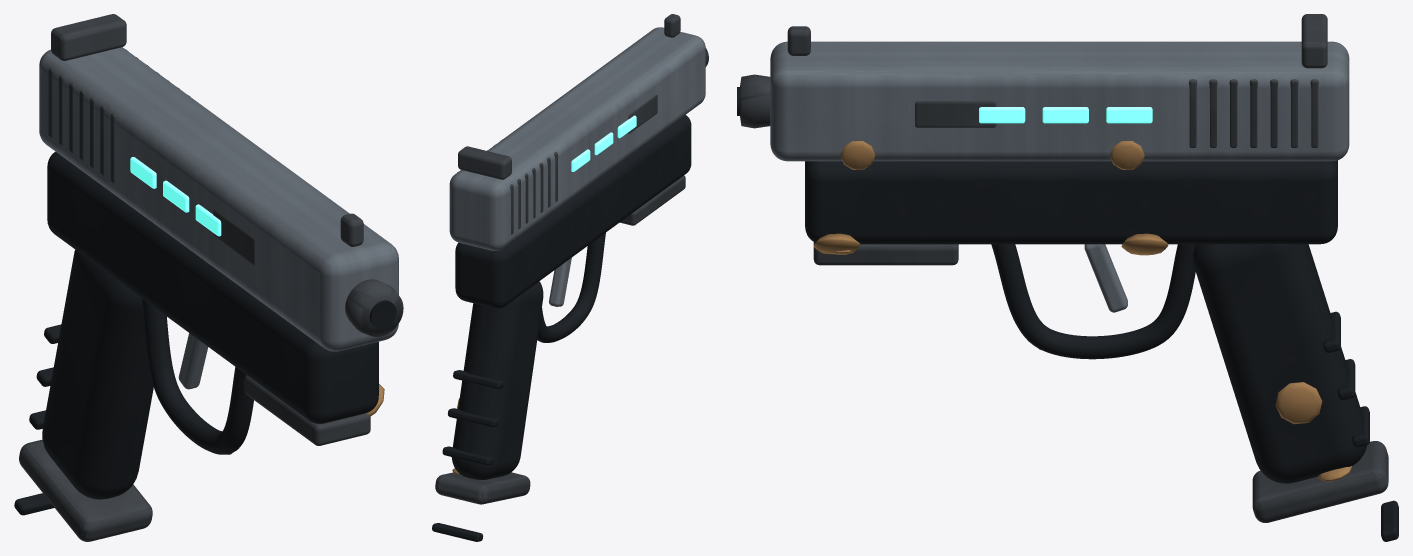
Rendered from sidearm.glb.
The picture shows the model from 3 angles, left to right: view 1: azimuth 30°, elevation 25°; view 2: azimuth 150°, elevation 25°; view 3: azimuth 270°, elevation 25°; orthographic projection. The views are drawn at different scales.
Visible parts, largest first — view 1: polymer / stippled polymer, alloy / machined anodized alloy, darksteel / oil-blackened fittings, energy / emissive field channel; view 2: polymer / stippled polymer, alloy / machined anodized alloy, darksteel / oil-blackened fittings, energy / emissive field channel; view 3: polymer / stippled polymer, alloy / machined anodized alloy, darksteel / oil-blackened fittings, peened pin (×2), energy / emissive field channel.
Boxes of the visible parts, x1,y1,x2,y2 form: polymer / stippled polymer: (14, 151, 396, 515); alloy / machined anodized alloy: (39, 47, 398, 389); darksteel / oil-blackened fittings: (19, 14, 403, 541); energy / emissive field channel: (130, 157, 221, 236); polymer / stippled polymer: (432, 115, 691, 541); alloy / machined anodized alloy: (449, 27, 705, 306); darksteel / oil-blackened fittings: (435, 14, 708, 504); energy / emissive field channel: (571, 115, 636, 171); polymer / stippled polymer: (737, 87, 1398, 541); alloy / machined anodized alloy: (770, 41, 1349, 312); darksteel / oil-blackened fittings: (740, 14, 1388, 522); peened pin (×2): (813, 140, 1322, 424); energy / emissive field channel: (979, 107, 1152, 123).
Size of the model in its own units: 0.0352 by 0.1904 by 0.2286.
Materials: 5 (3 with a texture image).
